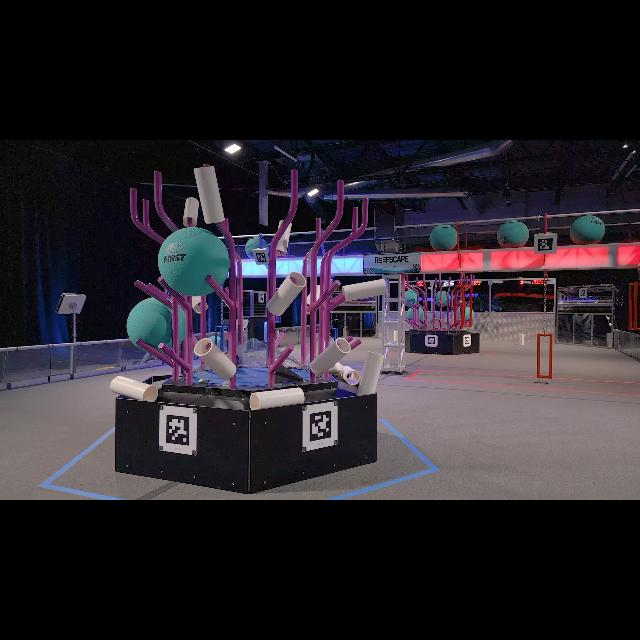ALGAE: (157, 226, 230, 296), (126, 297, 186, 353), (569, 215, 605, 245), (497, 220, 529, 248), (429, 223, 457, 250), (245, 236, 269, 260), (406, 304, 424, 322), (434, 290, 451, 308), (456, 306, 474, 320), (403, 290, 417, 306)
CORAL: (193, 164, 224, 224), (266, 270, 306, 316), (194, 338, 236, 378), (310, 336, 350, 376), (110, 374, 158, 402), (249, 386, 305, 409), (356, 350, 384, 396), (342, 278, 386, 302), (276, 220, 292, 256), (183, 197, 199, 227), (340, 366, 360, 386)
